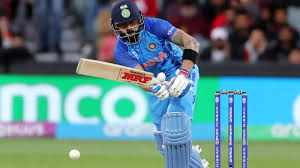bottom left: (77, 55, 87, 64)
bottom right: (73, 68, 84, 78)
top left: (147, 69, 156, 77)
top right: (144, 82, 154, 92)
